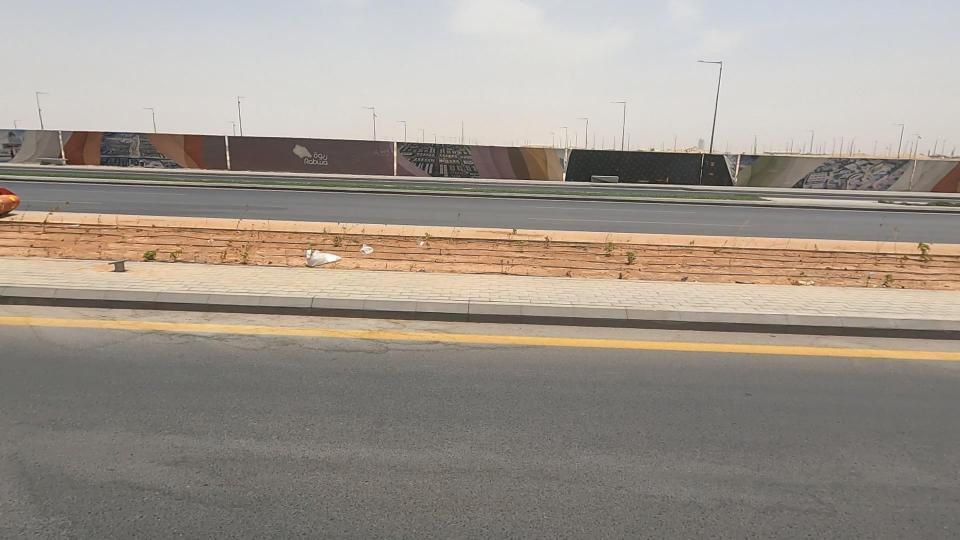CLUTTER_SIDEWALK: (265, 188, 887, 336), (0, 172, 397, 312), (666, 209, 960, 329)
GARBAGE: (269, 219, 357, 286), (339, 210, 403, 292)
